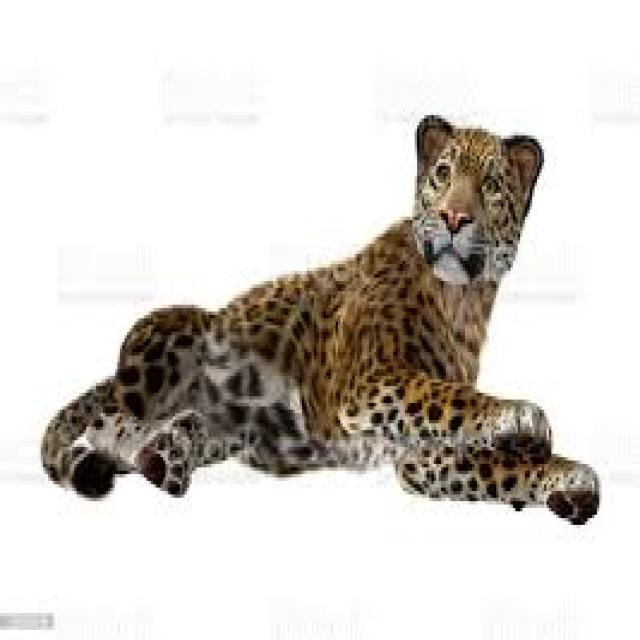Jaguar: (65, 115, 594, 532)
